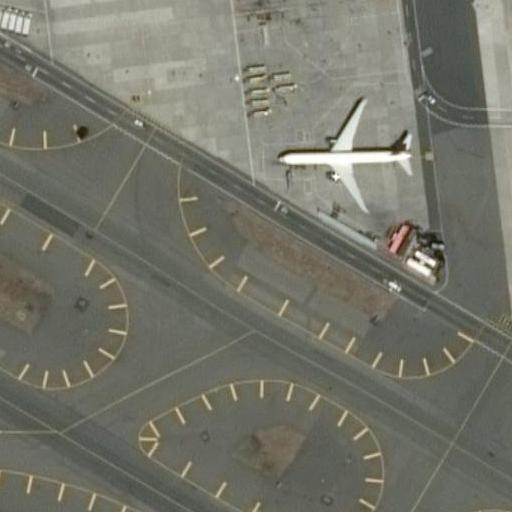Aircraft: (264, 85, 417, 216)
